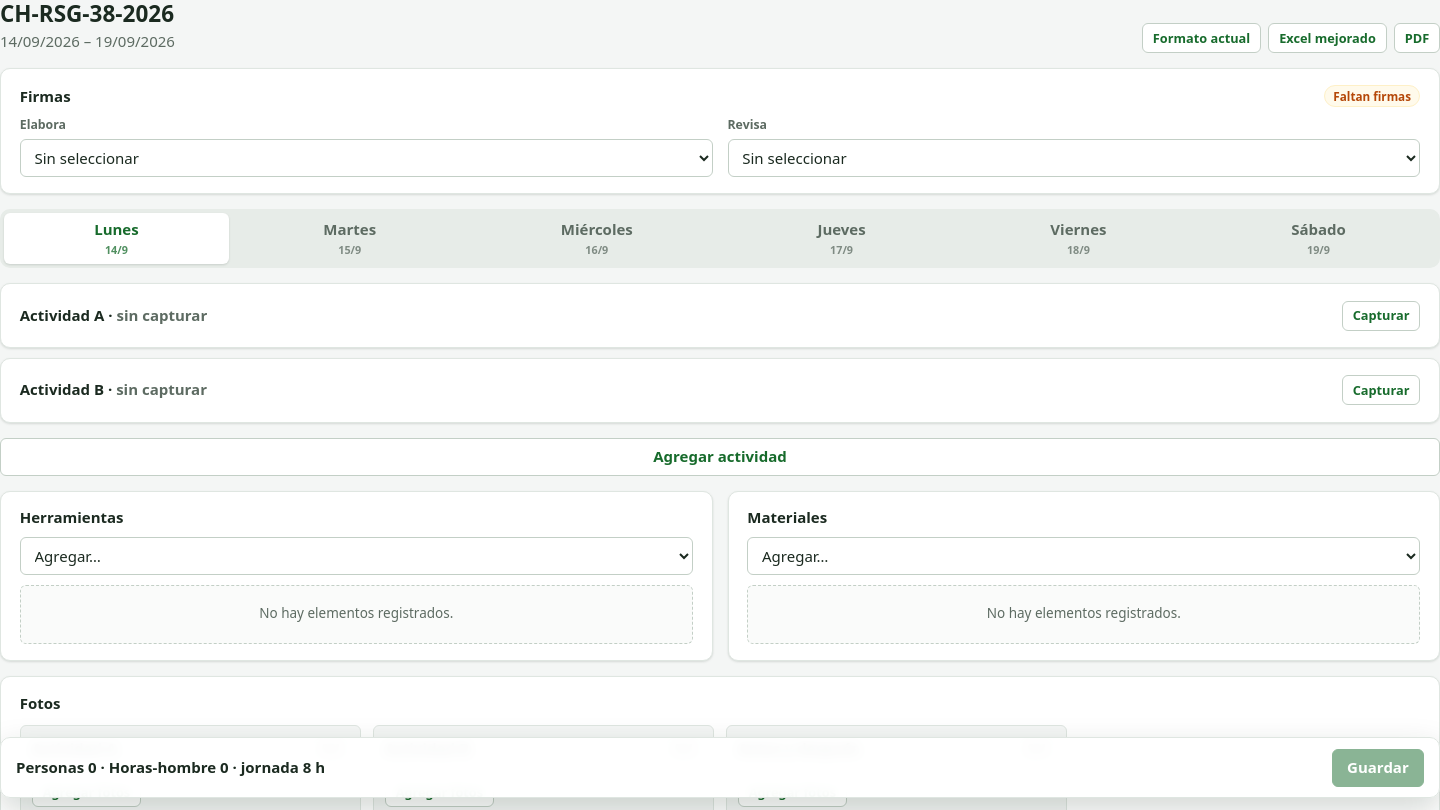
agrega la siguiente actividad y su espacio de fotos
The width and height of the screenshot is (1440, 810).
Expected: the text "Actividad A · sin capturar" is shown, top-left (20, 305), bottom-right (207, 326)
Click the button "Agregar actividad": (720, 457) top-left (0, 438), bottom-right (1439, 476)
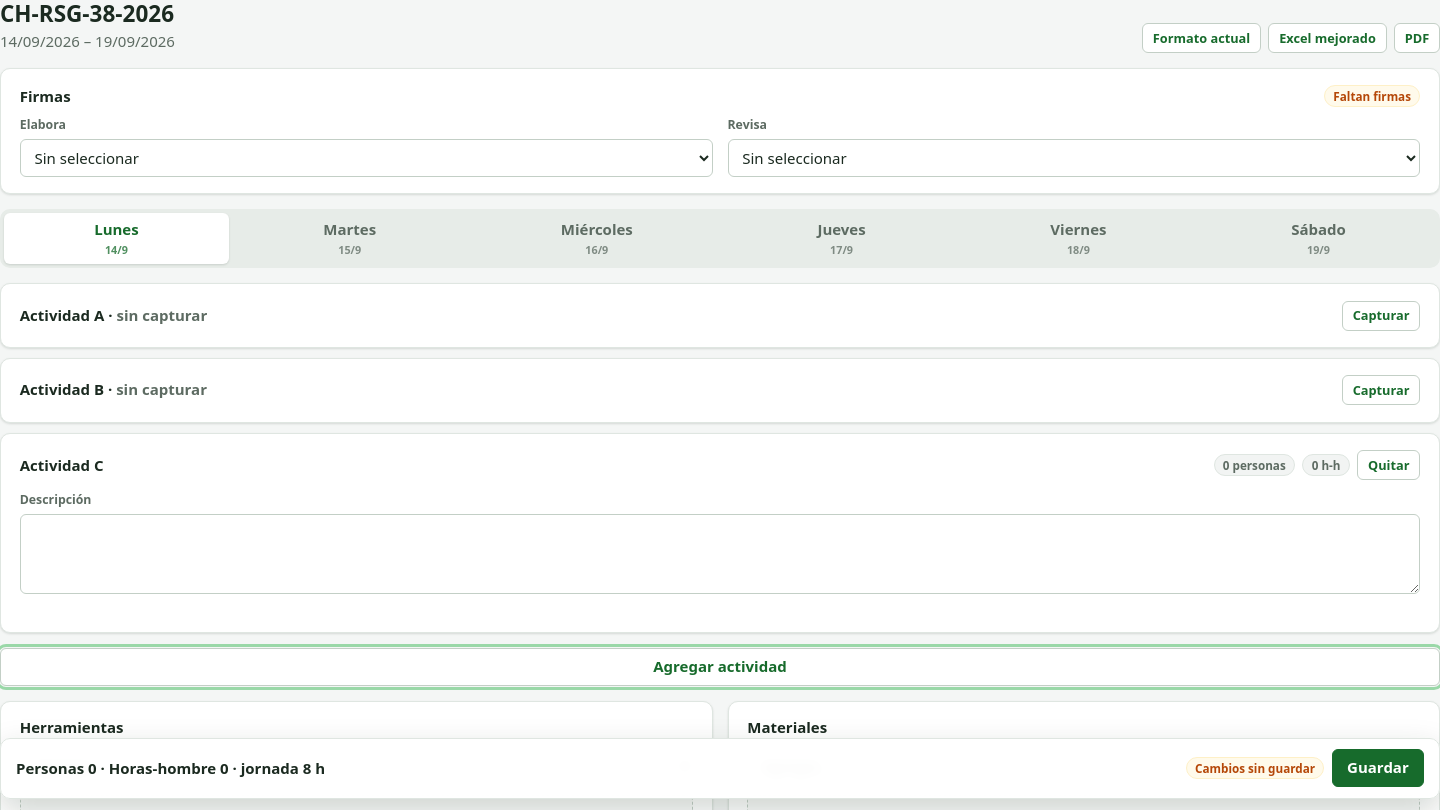
Now the heading "Actividad C" is shown, box top-left (20, 456), bottom-right (104, 474)
